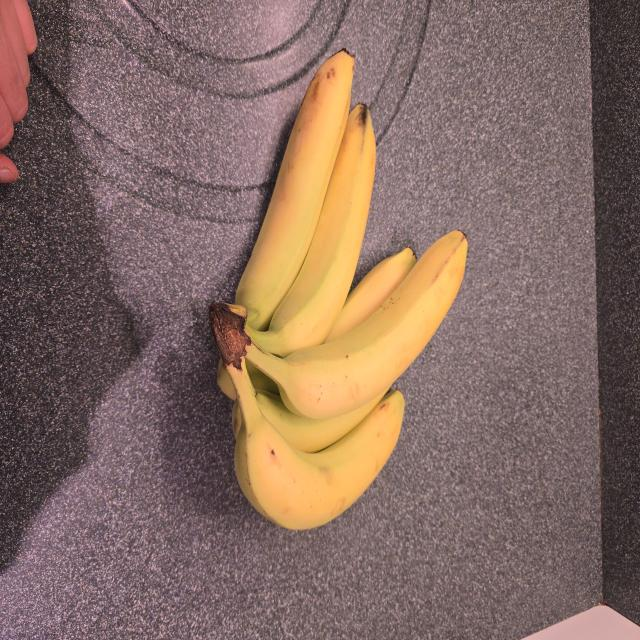Banana: (247, 232, 466, 419), (235, 51, 354, 330), (223, 364, 404, 529), (261, 104, 375, 357)
